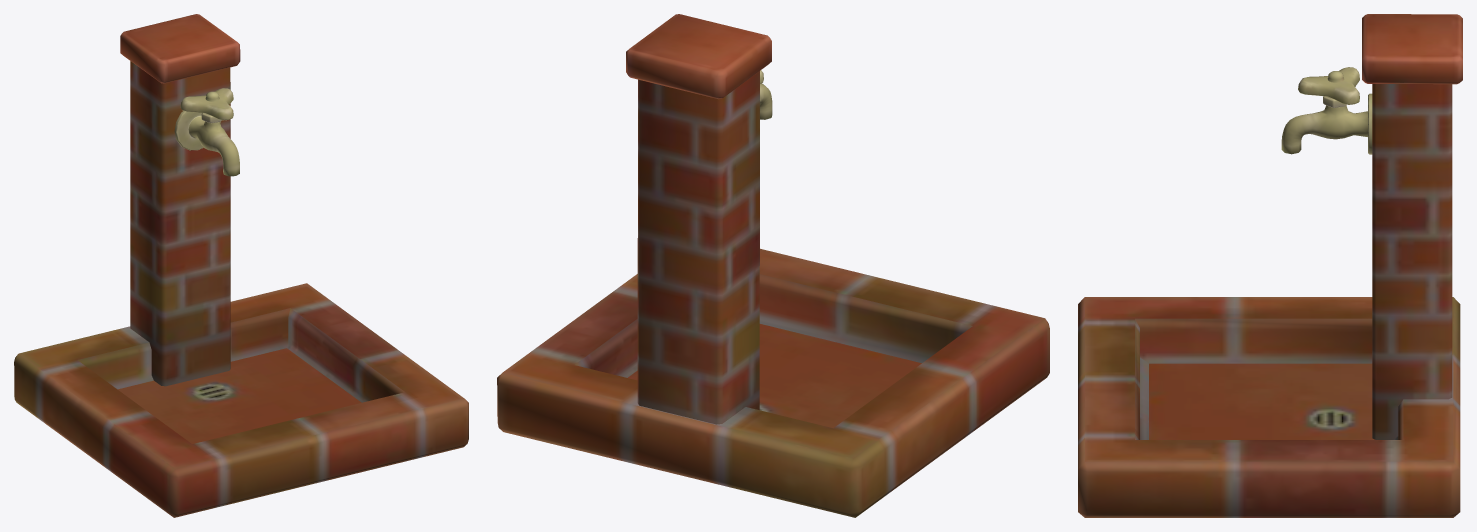
The picture shows the model from 3 angles, left to right: view 1: azimuth 30°, elevation 25°; view 2: azimuth 150°, elevation 25°; view 3: azimuth 270°, elevation 25°; orthographic projection. The views are drawn at different scales.
Bounding box in the file's own units: 8.81 × 9.63 × 8.39.
Materials: 1 (1 with a texture image).
